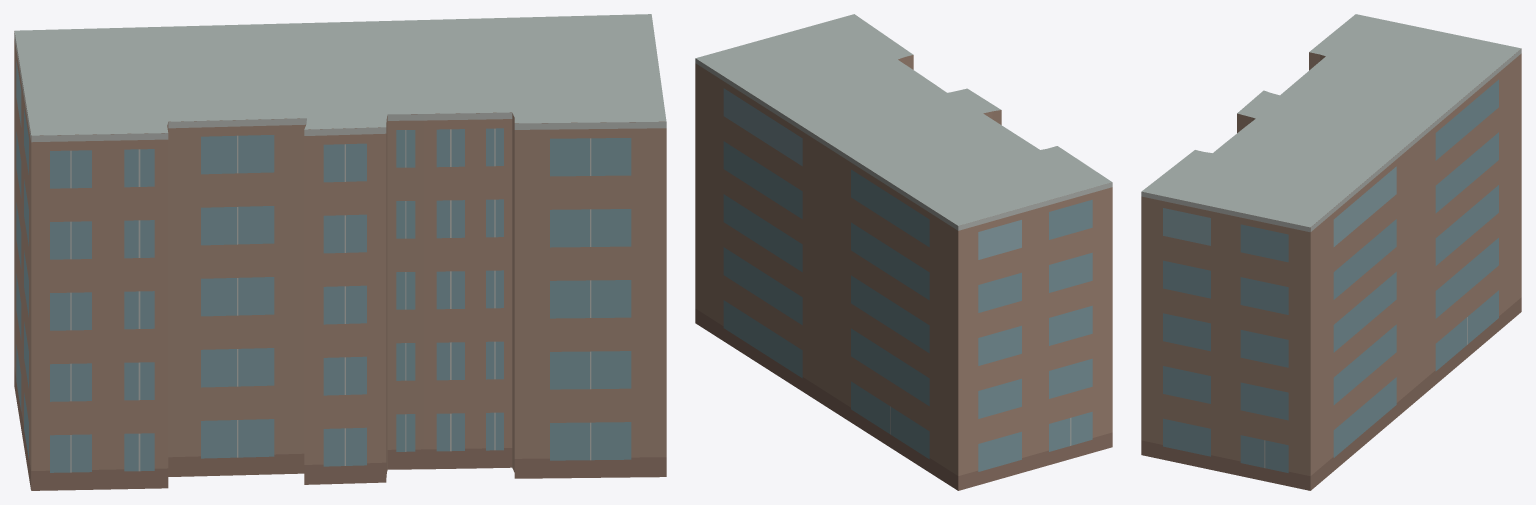
Rendered from survey-upis-33012097.glb.
The picture shows the model from 3 angles, left to right: view 1: azimuth 30°, elevation 25°; view 2: azimuth 150°, elevation 25°; view 3: azimuth 270°, elevation 25°; orthographic projection. The views are drawn at different scales.
Visible parts, largest first — view 1: survey-upis-33012097.tmp; view 2: survey-upis-33012097.tmp; view 3: survey-upis-33012097.tmp.
Part boxes in pixels (x1,y1,x2,y2): survey-upis-33012097.tmp: (14, 14, 666, 490); survey-upis-33012097.tmp: (695, 14, 1112, 490); survey-upis-33012097.tmp: (1141, 14, 1521, 490).
Size of the model in its own units: 22.95 by 13.2 by 17.28.
